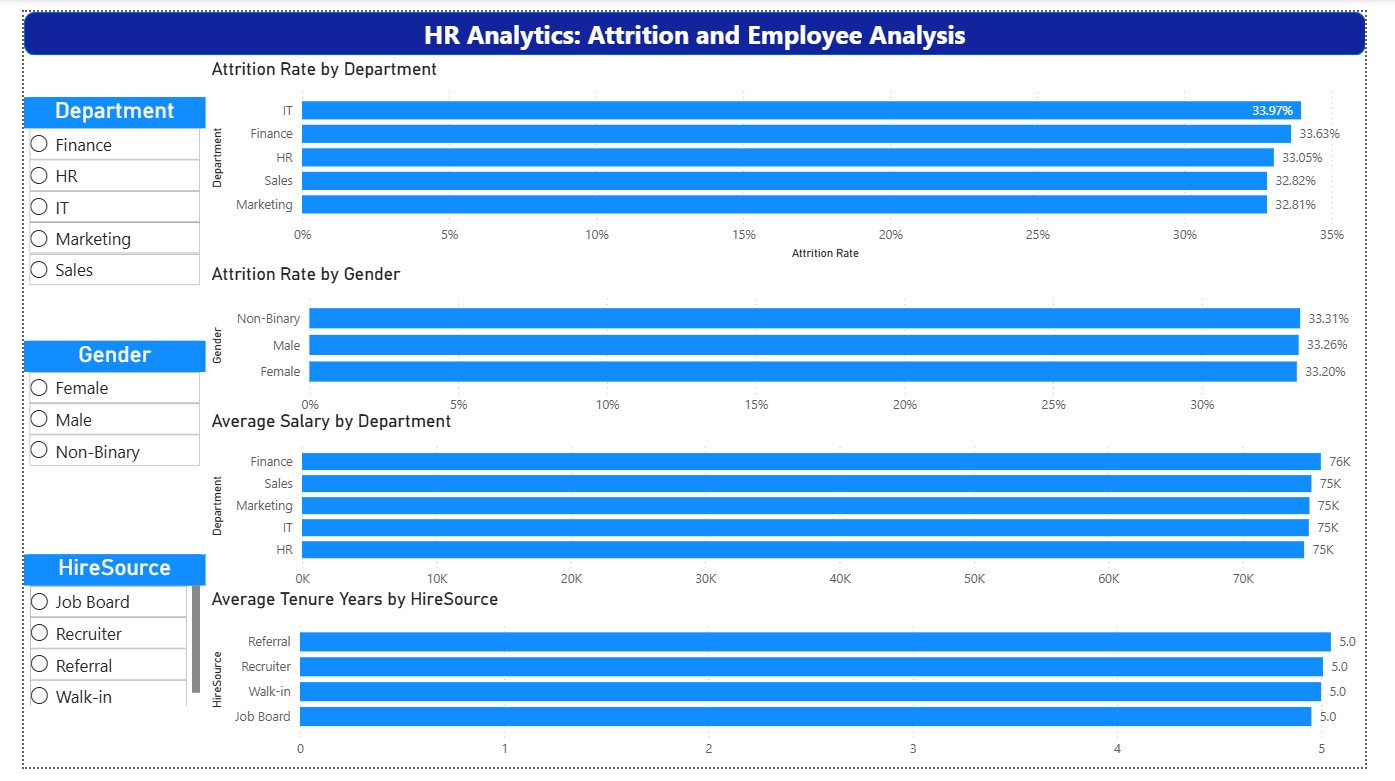

The page's visual inventory and layout, read from the dashboard file:
{"tool":"powerbi","page":{"name":"02_Attrition_Analysis","canvas":[1280,720],"ordinal":1},"visuals":[{"type":"shape","box":[0,0,1280.3,41.4],"z":0},{"type":"listSlicer","fields":{"Values":["hr.Department"]},"box":[0,80.8,173.3,200.9],"z":1000},{"type":"listSlicer","fields":{"Values":["hr.Gender"]},"box":[0,313.2,173.3,133.9],"z":2000},{"type":"listSlicer","fields":{"Values":["hr.HireSource"]},"box":[0,518,173.3,149.7],"z":3000},{"type":"clusteredBarChart","fields":{"Category":["hr.Department"],"Y":["hr.Attrition Rate"]},"box":[173.3,43.3,1107,197],"z":4000},{"type":"clusteredBarChart","fields":{"Y":["hr.Attrition Rate"],"Category":["hr.Gender"]},"box":[173.3,240.3,1107,153.6],"z":5000},{"type":"clusteredBarChart","fields":{"Category":["hr.Department"],"Y":["hr.Average Salary"]},"box":[173.3,380.2,1107,189.1],"z":6000},{"type":"clusteredBarChart","fields":{"Category":["hr.HireSource"],"Y":["hr.Average Tenure Years"]},"box":[173.3,549.5,1107,171.4],"z":7000}]}

Visuals, with their boxes in screenshot pixels (x1, y1, x2, y2), scaled from the page's 1280x720 canvas onto the 1395x781 screenshot:
shape: (x1=0, y1=0, x2=1394, y2=45)
listSlicer - hr.Department: (x1=0, y1=88, x2=189, y2=306)
listSlicer - hr.Gender: (x1=0, y1=340, x2=189, y2=485)
listSlicer - hr.HireSource: (x1=0, y1=562, x2=189, y2=724)
clusteredBarChart - hr.Department x hr.Attrition Rate: (x1=189, y1=47, x2=1394, y2=261)
clusteredBarChart - hr.Attrition Rate x hr.Gender: (x1=189, y1=261, x2=1394, y2=427)
clusteredBarChart - hr.Department x hr.Average Salary: (x1=189, y1=412, x2=1394, y2=618)
clusteredBarChart - hr.HireSource x hr.Average Tenure Years: (x1=189, y1=596, x2=1394, y2=780)
